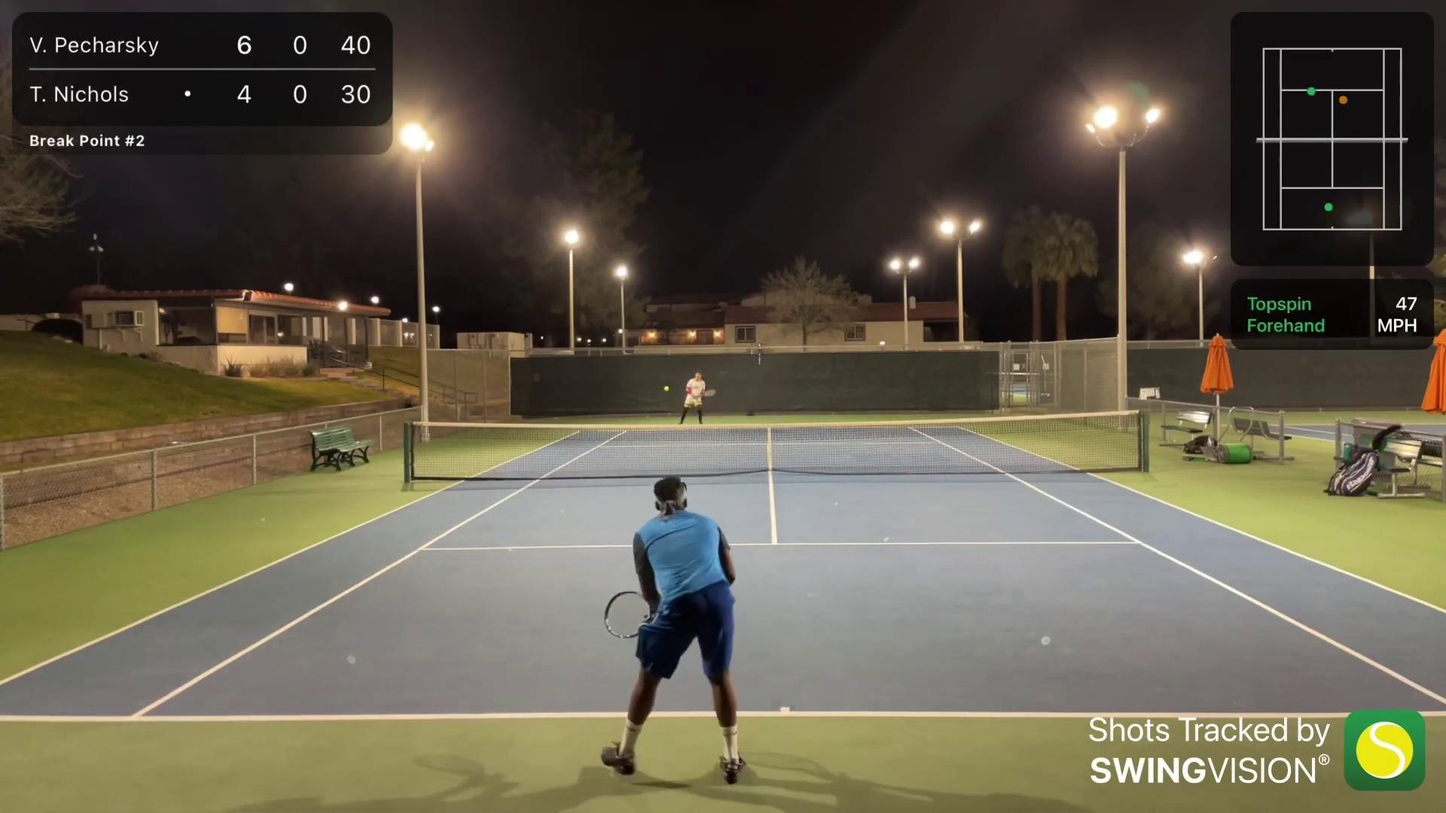ball: (664, 385, 671, 392)
